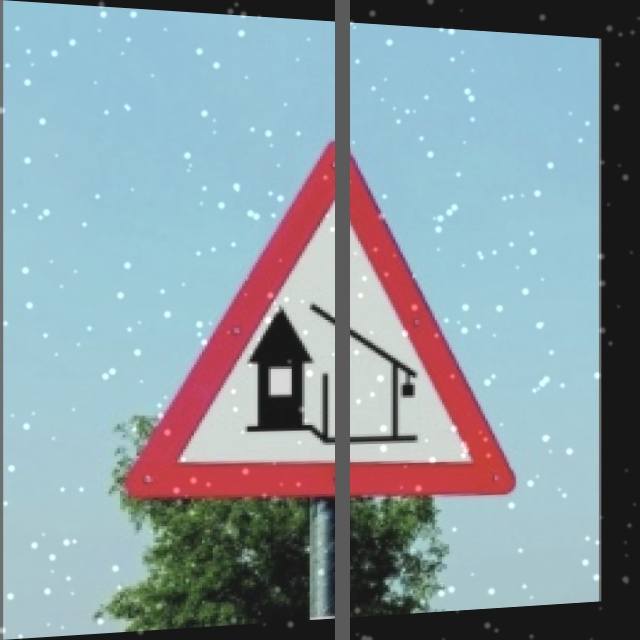Barrier_Ahead: (144, 134, 504, 514)
